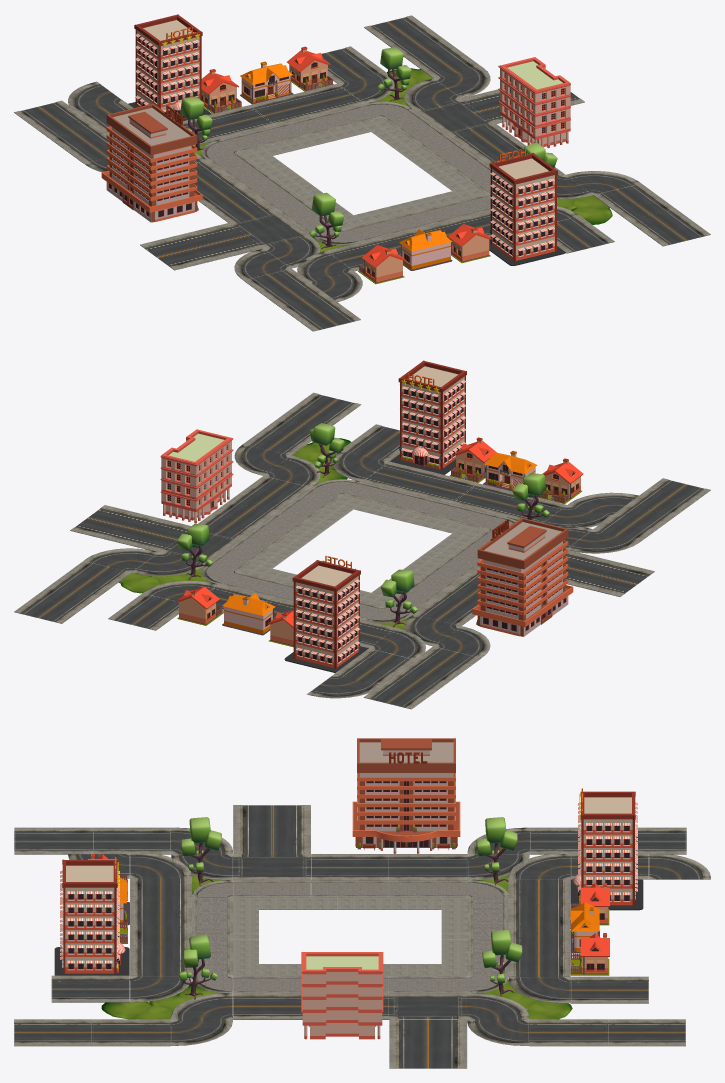
File: cementScenario.gltf
The picture shows the model from 3 angles, top to bottom: view 1: azimuth 30°, elevation 25°; view 2: azimuth 150°, elevation 25°; view 3: azimuth 270°, elevation 25°; orthographic projection. The views are drawn at different scales.
Parts seen in each view (by area): view 1: TreeBark_03_Clean_MergedBake_Bake1.001_0; view 2: TreeBark_03_Clean_MergedBake_Bake1.001_0; view 3: TreeBark_03_Clean_MergedBake_Bake1.001_0.
Boxes of the visible parts, box(x1,y1,x2,y2) form: TreeBark_03_Clean_MergedBake_Bake1.001_0: box(14, 14, 710, 331); TreeBark_03_Clean_MergedBake_Bake1.001_0: box(14, 360, 710, 709); TreeBark_03_Clean_MergedBake_Bake1.001_0: box(14, 738, 710, 1068).
Bounding box in the file's own units: 57.34 × 10.09 × 64.18.
6 materials, 6 textured.
